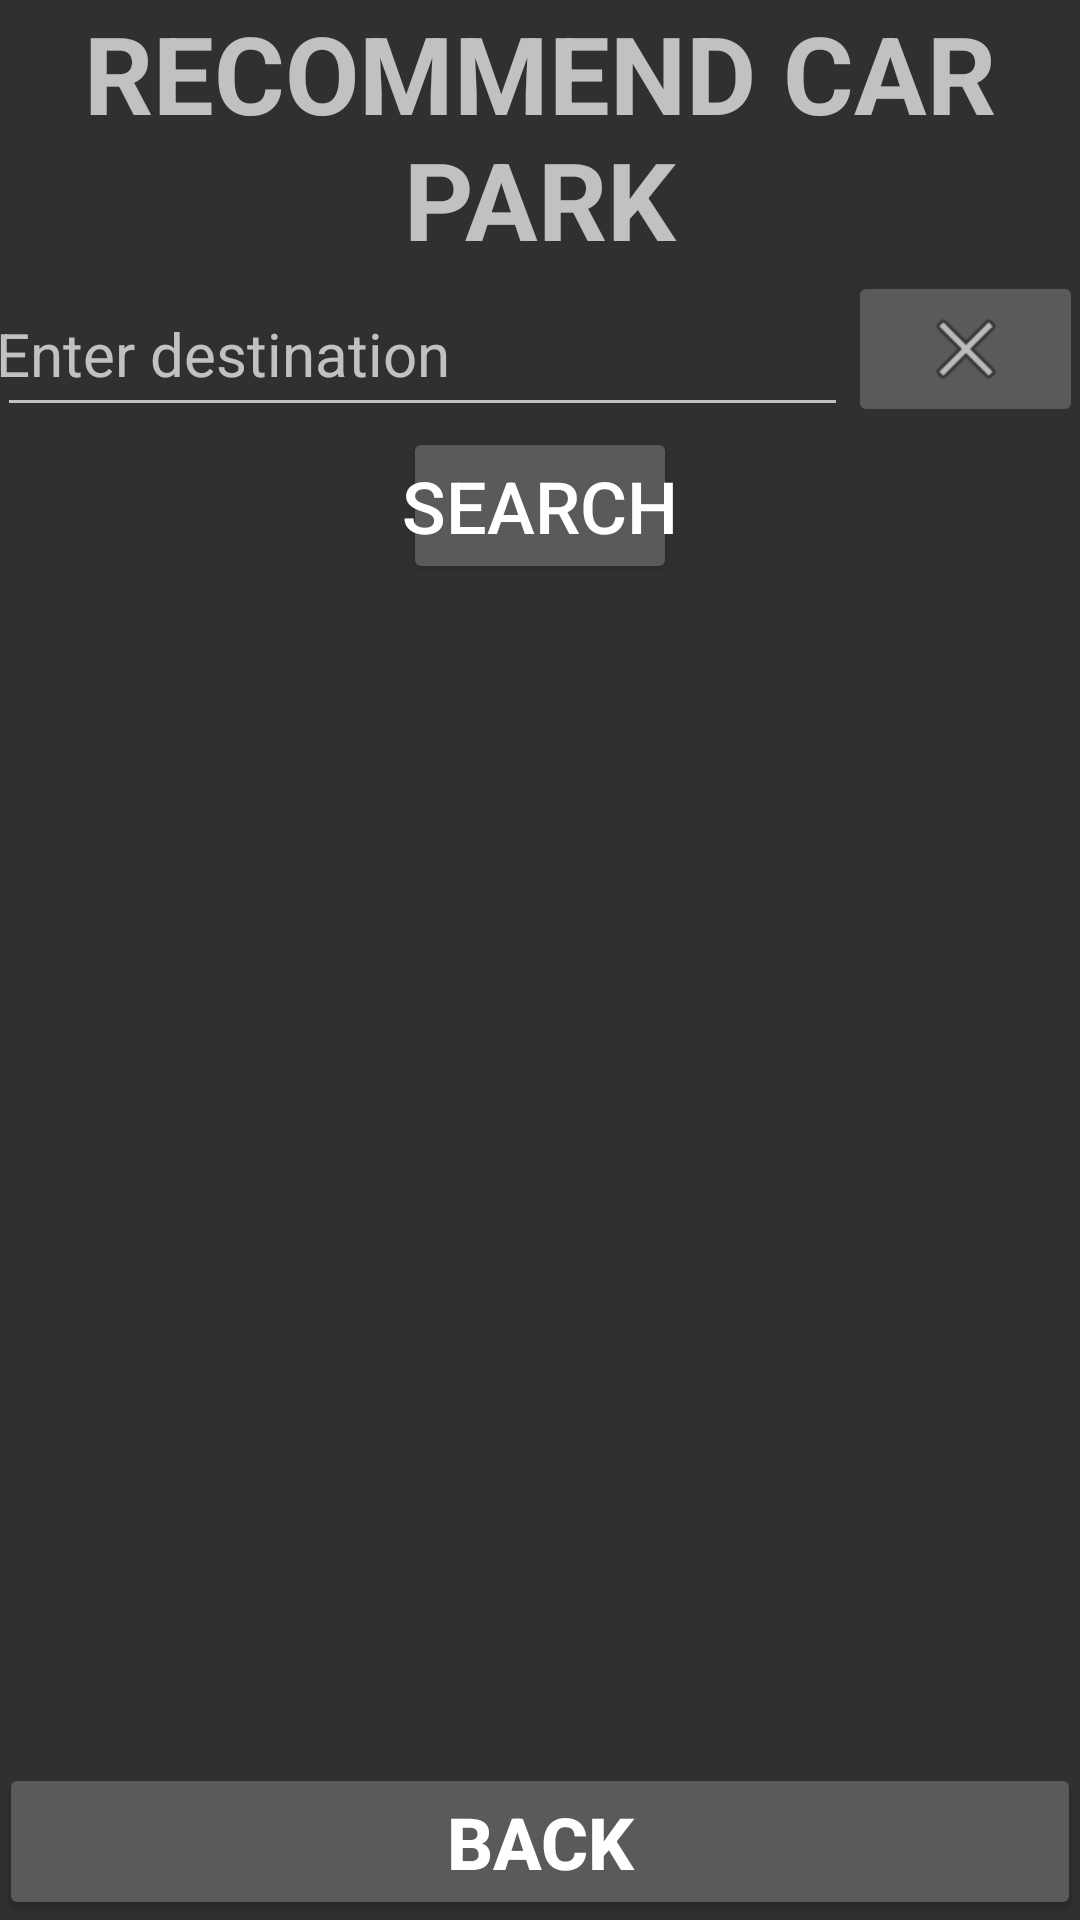

Icons on this 1080*1920 Android screen, each with the point to tap as (x=x, y=y):
Clears input text: (x=965, y=349)
